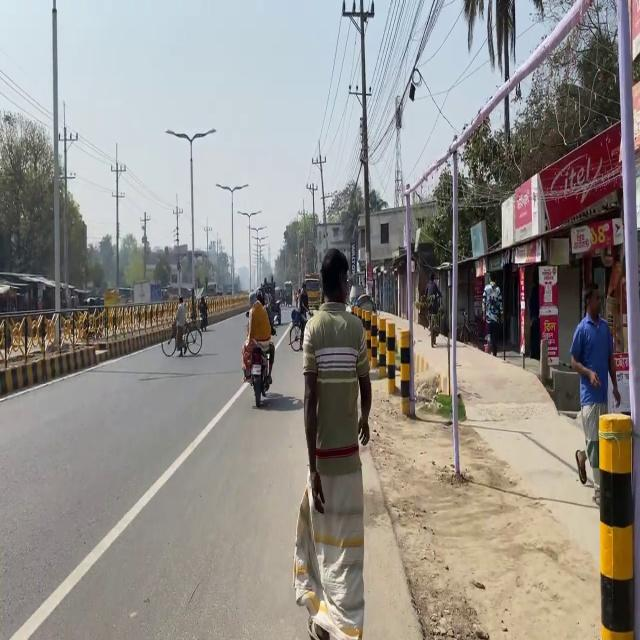Bench: (354, 304, 426, 424)
Construction-barrier: (359, 436, 426, 639)
Fallen-tree: (246, 331, 276, 407), (289, 306, 311, 351)
Garbage-bin: (293, 247, 372, 639), (569, 286, 621, 507), (482, 278, 502, 356), (423, 272, 442, 347), (173, 296, 187, 355), (198, 295, 208, 331)
Light-pole: (449, 148, 461, 474)
Pothole: (366, 304, 618, 638)
Traffic-cone: (303, 273, 322, 311)
